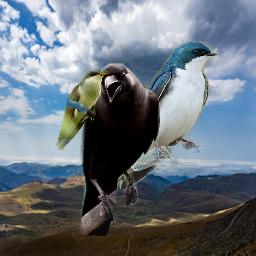Crow: (79, 63, 160, 236)
Cuckoo: (55, 70, 110, 150)
Swallow: (106, 41, 219, 193)
